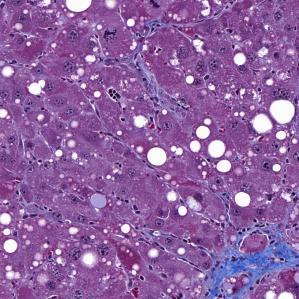fibrosis: (210, 220, 295, 295)
